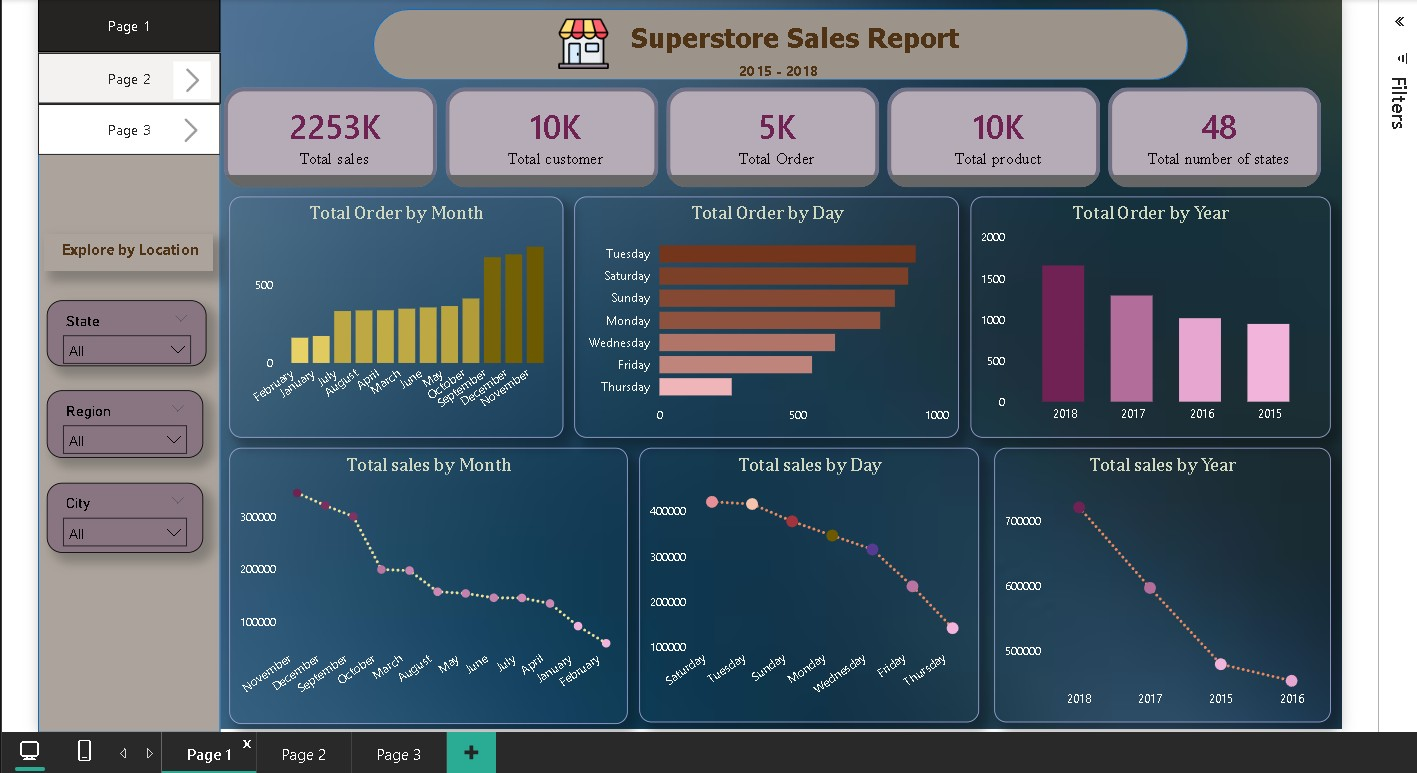

This screenshot's page, from the dashboard's own definition file:
{"tool":"powerbi","page":{"name":"Page 1","canvas":[1280,720],"ordinal":0},"visuals":[{"type":"cardVisual","fields":{"Data":["superstore_final_dataset (1).total sales","superstore_final_dataset (1).total customer","superstore_final_dataset (1).total order","superstore_final_dataset (1).total product","superstore_final_dataset (1).total number of states"]},"box":[165.6,69.9,1114.1,132.5],"z":0},{"type":"columnChart","fields":{"Category":["superstore_final_dataset (1).Month Name"],"Y":["superstore_final_dataset (1).total order"]},"box":[187.7,193.9,327.6,236.8],"z":1000},{"type":"barChart","fields":{"Y":["superstore_final_dataset (1).Total Order"],"Category":["superstore_final_dataset (1).Day Name"]},"box":[526.4,193.9,377.9,236.8],"z":2000},{"type":"columnChart","fields":{"Y":["superstore_final_dataset (1).Total Order"],"Category":["superstore_final_dataset (1).Year"]},"box":[915.3,193.9,353.4,236.8],"z":3000},{"type":"lineChart","fields":{"Y":["superstore_final_dataset (1).total sales"],"Category":["superstore_final_dataset (1).Month"]},"box":[187.7,440.5,391.4,271.2],"z":4000},{"type":"shape","box":[0,0,179.1,720.2],"z":5000},{"type":"lineChart","fields":{"Y":["superstore_final_dataset (1).total sales"],"Category":["superstore_final_dataset (1).Day"]},"box":[590.2,440.5,333.7,269.9],"z":6000},{"type":"lineChart","fields":{"Y":["superstore_final_dataset (1).total sales"],"Category":["superstore_final_dataset (1).Year"]},"box":[938.7,440.5,330.1,269.9],"z":7000},{"type":"pageNavigator","box":[0,0,179.1,52.8],"z":8000},{"type":"pageNavigator","box":[0,52.8,179.1,50.3],"z":9000},{"type":"pageNavigator","box":[0,103.1,179.1,50.3],"z":10000},{"type":"shape","box":[328.8,9.8,800,69.9],"z":11000},{"type":"textbox","box":[683.4,56.4,92,54],"z":12000},{"type":"image","box":[504.3,18.4,62.6,51.5],"z":13000},{"type":"image","box":[128.8,61.4,45.4,36.8],"z":14000},{"type":"image","box":[128.8,110.4,41.7,36.8],"z":15000},{"type":"textbox","box":[576.7,17.2,360.7,44.2],"z":16000},{"type":"slicer","fields":{"Values":["superstore_final_dataset (1).City"]},"box":[8.6,474.8,153.4,68.7],"z":17000},{"type":"slicer","fields":{"Values":["superstore_final_dataset (1).Region"]},"box":[8.6,384.1,153.4,66.3],"z":18000},{"type":"slicer","fields":{"Values":["superstore_final_dataset (1).State"]},"box":[8.6,295.7,157.1,65],"z":19000},{"type":"textbox","box":[6.1,230.7,165.6,36.8],"z":20000}]}

Visuals, with their boxes on the page's 1280x720 design canvas (x1, y1, x2, y2). These are canvas units, not pixel positions in the 1417x773 screenshot, which may show the page scaled, cropped or inside an application window:
cardVisual - superstore_final_dataset (1).total sales x superstore_final_dataset (1).total customer: select_region(166, 70, 1280, 202)
columnChart - superstore_final_dataset (1).Month Name x superstore_final_dataset (1).total order: select_region(188, 194, 515, 431)
barChart - superstore_final_dataset (1).Total Order x superstore_final_dataset (1).Day Name: select_region(526, 194, 904, 431)
columnChart - superstore_final_dataset (1).Total Order x superstore_final_dataset (1).Year: select_region(915, 194, 1269, 431)
lineChart - superstore_final_dataset (1).total sales x superstore_final_dataset (1).Month: select_region(188, 440, 579, 712)
shape: select_region(0, 0, 179, 720)
lineChart - superstore_final_dataset (1).total sales x superstore_final_dataset (1).Day: select_region(590, 440, 924, 710)
lineChart - superstore_final_dataset (1).total sales x superstore_final_dataset (1).Year: select_region(939, 440, 1269, 710)
pageNavigator: select_region(0, 0, 179, 53)
pageNavigator: select_region(0, 53, 179, 103)
pageNavigator: select_region(0, 103, 179, 153)
shape: select_region(329, 10, 1129, 80)
textbox: select_region(683, 56, 775, 110)
image: select_region(504, 18, 567, 70)
image: select_region(129, 61, 174, 98)
image: select_region(129, 110, 170, 147)
textbox: select_region(577, 17, 937, 61)
slicer - superstore_final_dataset (1).City: select_region(9, 475, 162, 544)
slicer - superstore_final_dataset (1).Region: select_region(9, 384, 162, 450)
slicer - superstore_final_dataset (1).State: select_region(9, 296, 166, 361)
textbox: select_region(6, 231, 172, 268)
